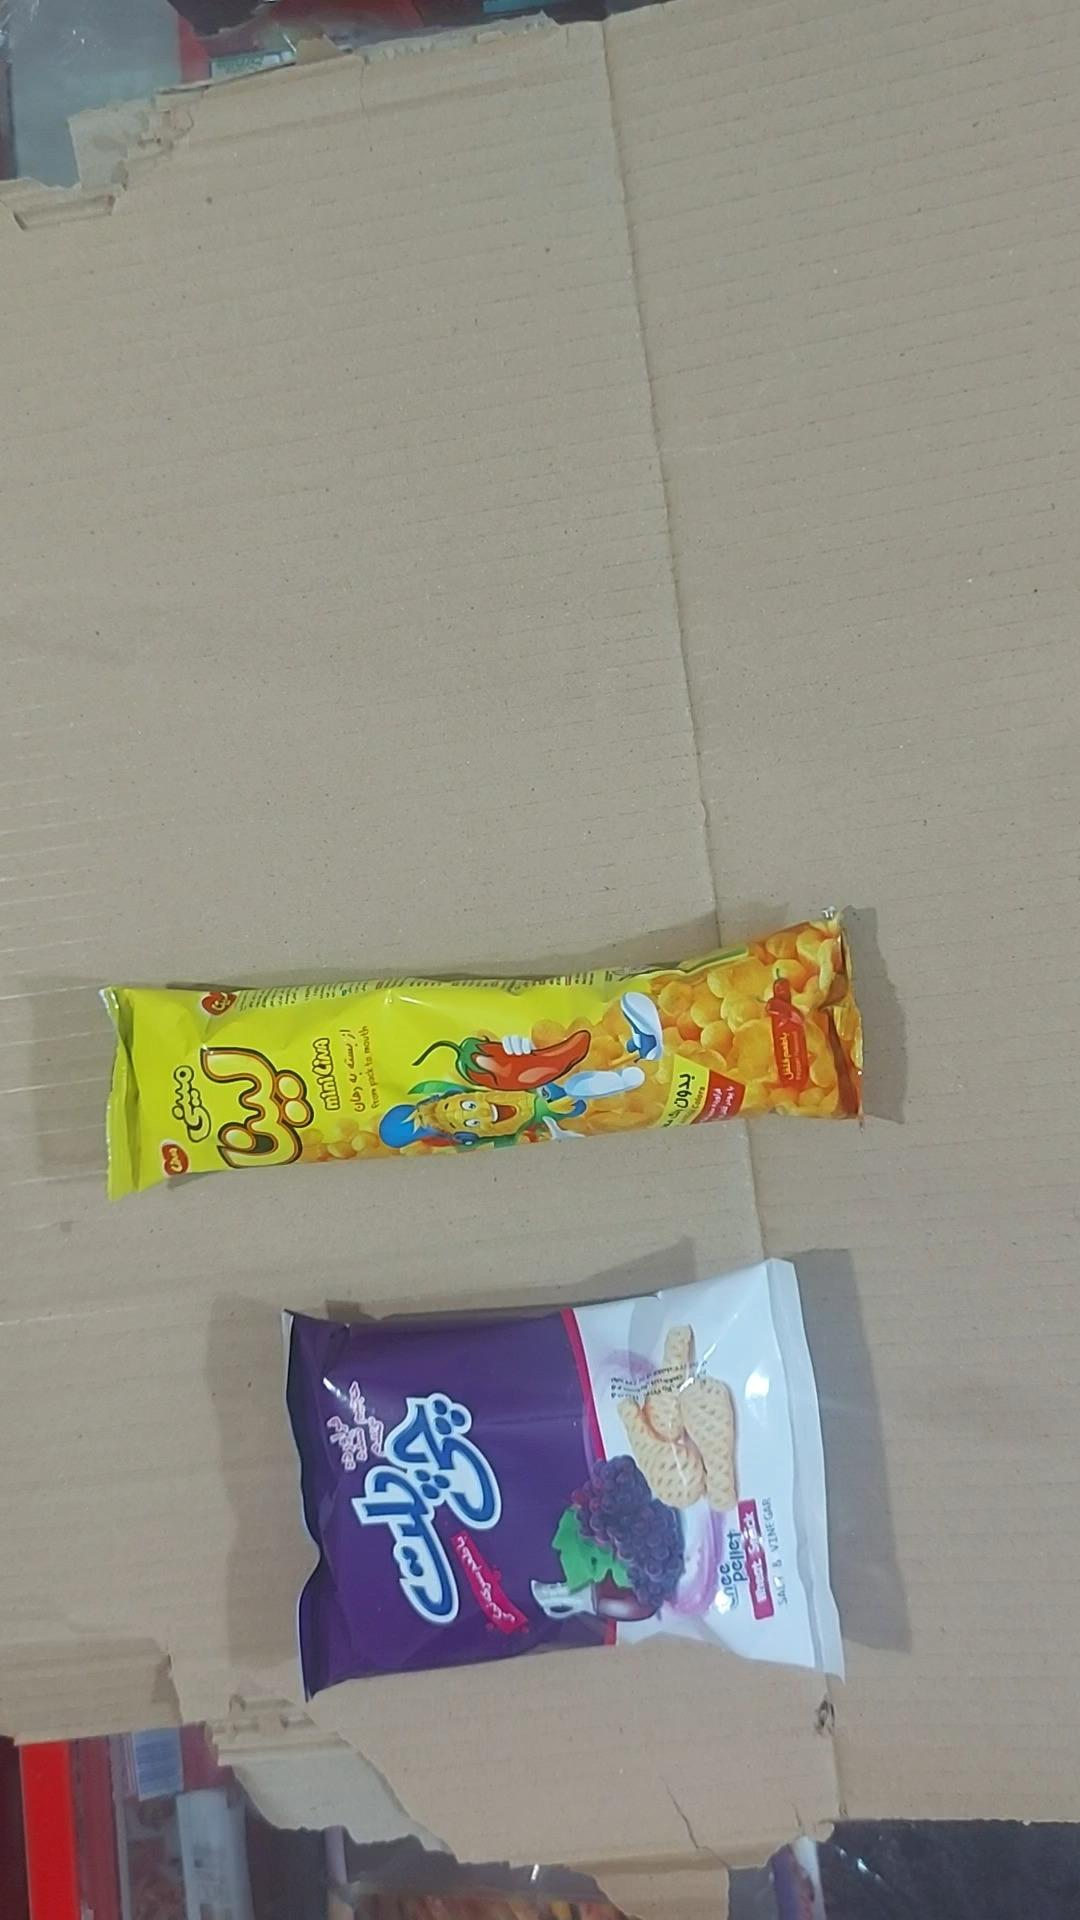Chee pellet vinegar: (286, 1261, 843, 1698)
Mini Lina: (102, 914, 862, 1199)
